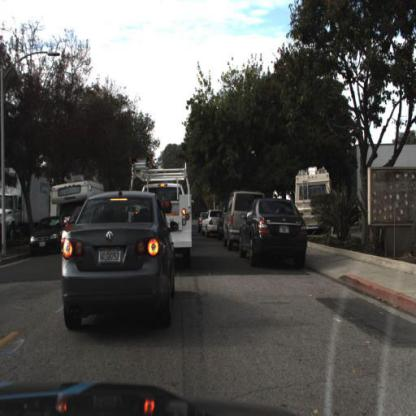car: (62, 195, 174, 326), (237, 198, 308, 266), (164, 159, 199, 271), (48, 175, 108, 224), (295, 168, 331, 230), (223, 193, 262, 246), (28, 213, 67, 259), (55, 196, 77, 277), (221, 188, 241, 253), (201, 207, 222, 235)
truck: (142, 172, 193, 258), (284, 160, 333, 239), (1, 168, 52, 232), (58, 182, 91, 238)
